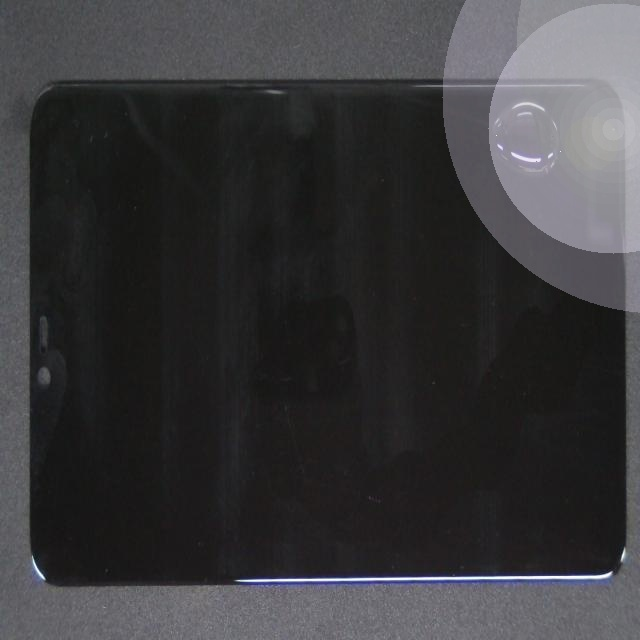oil: (245, 54, 640, 163)
